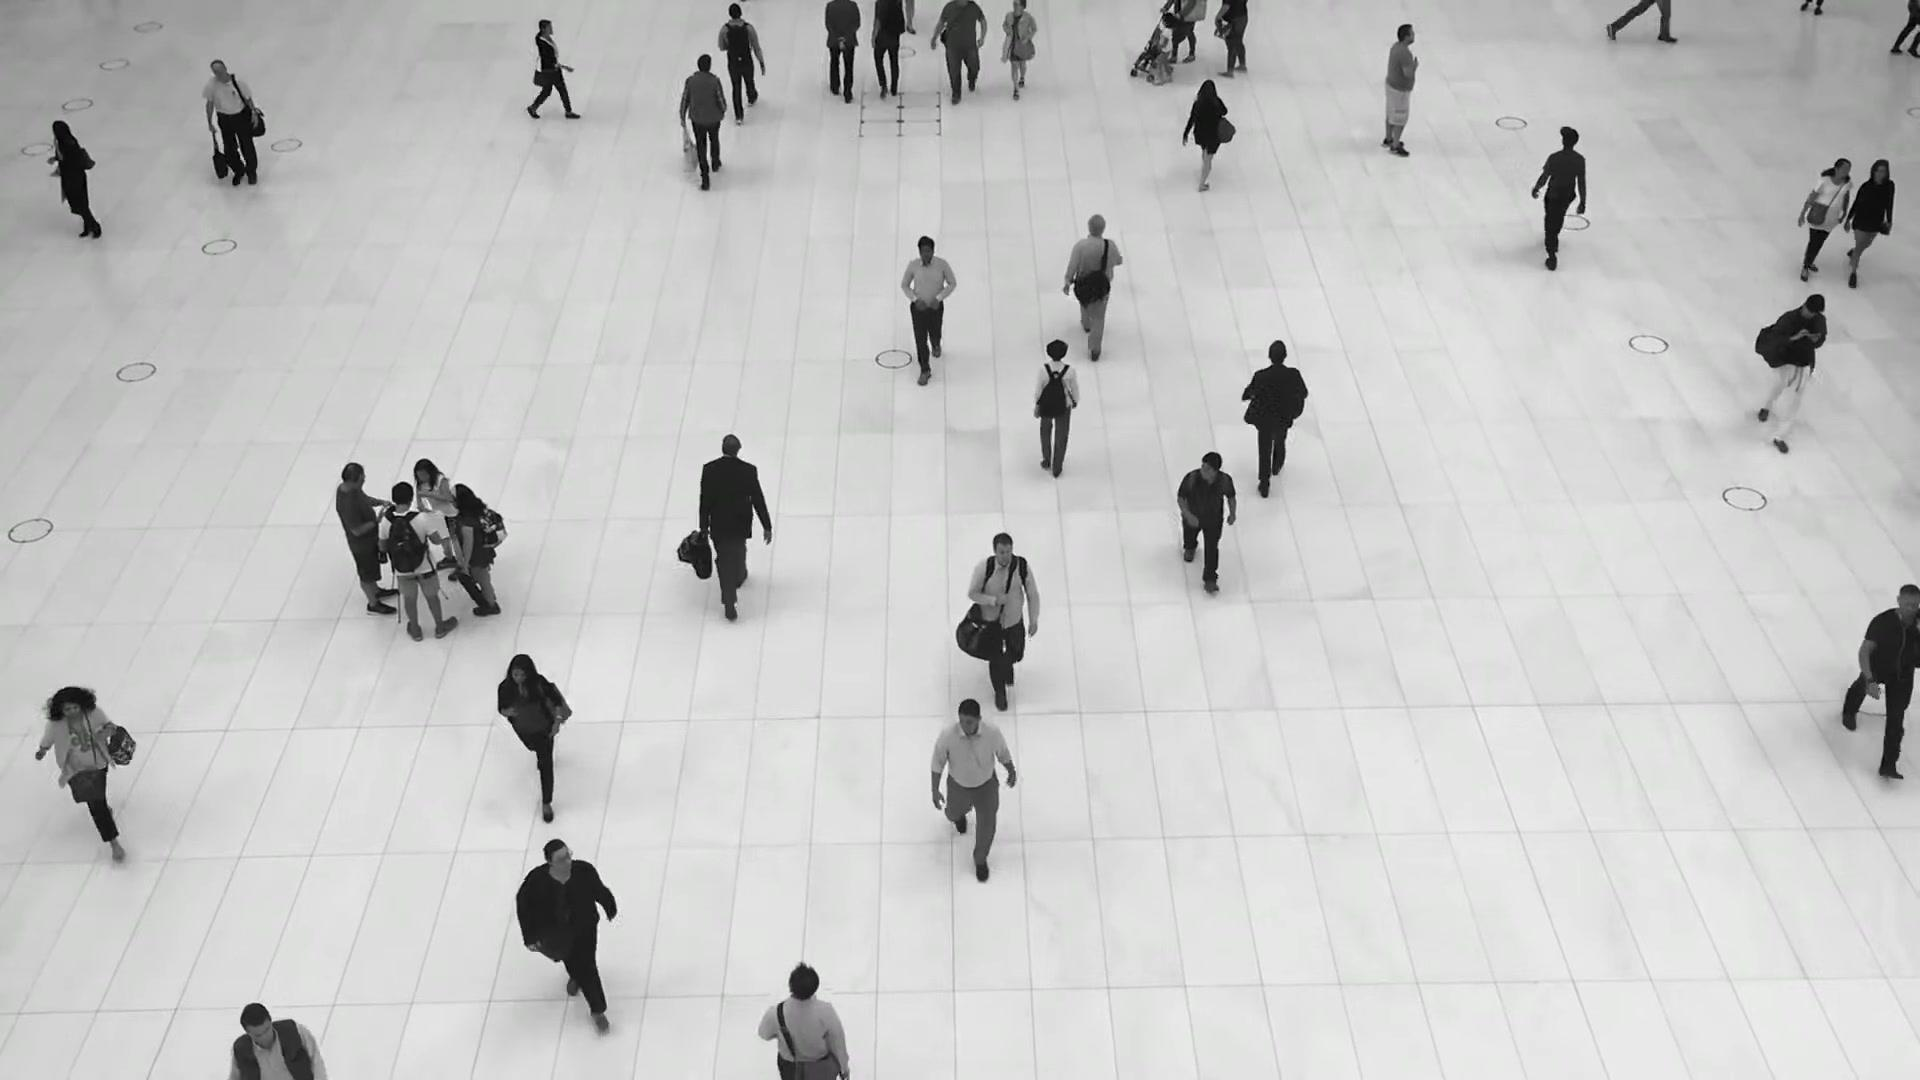person: (516, 837, 618, 1035), (928, 696, 1018, 878), (1840, 584, 1919, 785), (34, 681, 124, 847), (698, 433, 773, 616), (966, 529, 1040, 709), (496, 651, 573, 818), (378, 481, 459, 641), (1753, 292, 1828, 451), (756, 961, 848, 1080), (1243, 341, 1309, 504), (334, 465, 400, 615), (1176, 449, 1238, 597), (899, 233, 960, 384), (1064, 213, 1123, 364), (1530, 125, 1587, 274), (230, 1000, 327, 1080), (1794, 157, 1853, 284), (202, 58, 258, 188), (449, 484, 502, 617), (46, 118, 103, 240), (1032, 340, 1081, 483), (678, 53, 727, 190), (1843, 158, 1895, 287), (932, 0, 991, 105), (1183, 78, 1237, 193), (717, 3, 766, 126), (1381, 23, 1421, 157), (525, 17, 578, 119), (419, 458, 459, 580), (823, 0, 861, 104), (1000, 0, 1038, 99), (869, 0, 905, 98), (1152, 11, 1175, 85)
